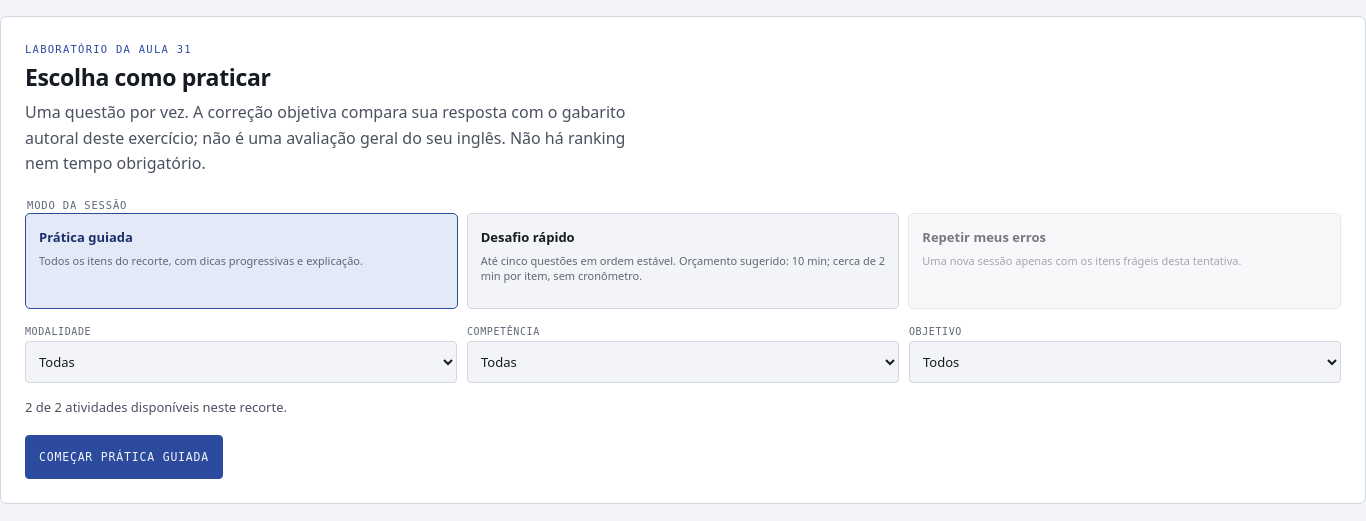
Scenario: PracticeRunner › mostra resumo separando primeira tentativa, correção e revelação
The width and height of the screenshot is (1366, 521).
Click the button "Começar Prática guiada".
click(124, 457)  # box [25,435,223,479]
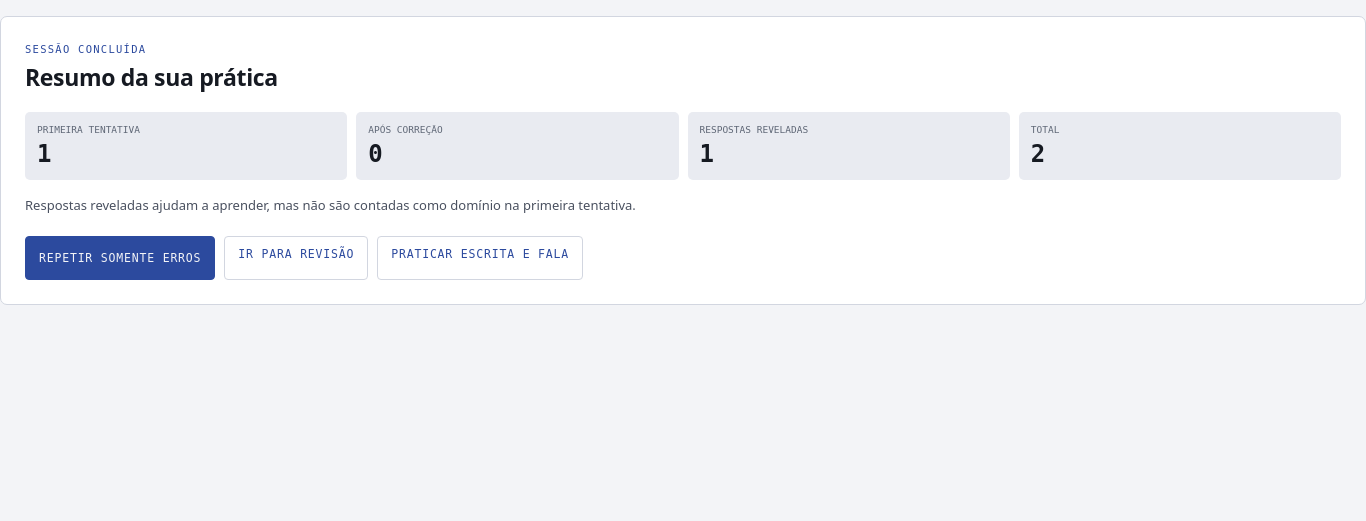
Expected: the 2nd text "1" is shown, [700,140,714,168]
Result: the heading "Resumo da sua prática" is shown at [25,61,278,93]
